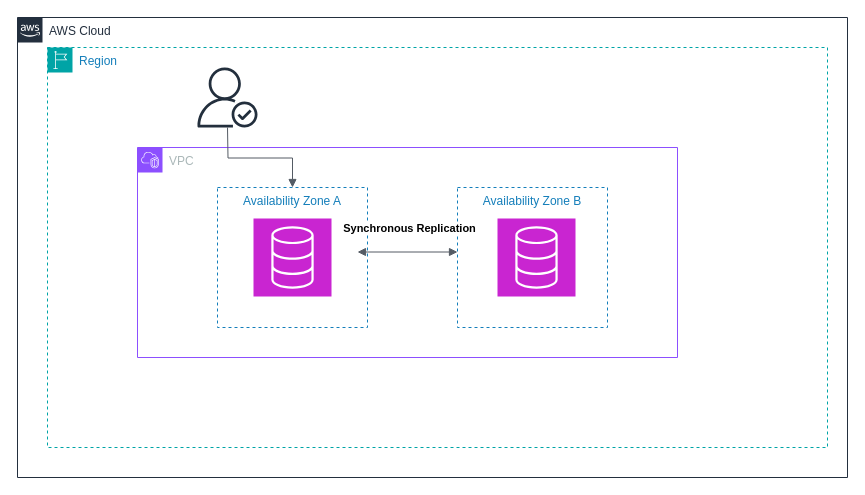
This 865x495 diagram has some shape labels left out. Here are the shapes that lost their labels. From the top down, the centre of each, then its label:
At [292,257]: "Primary DB (Write/Read)".
At [536,257]: "Standby DB (Passive)".
